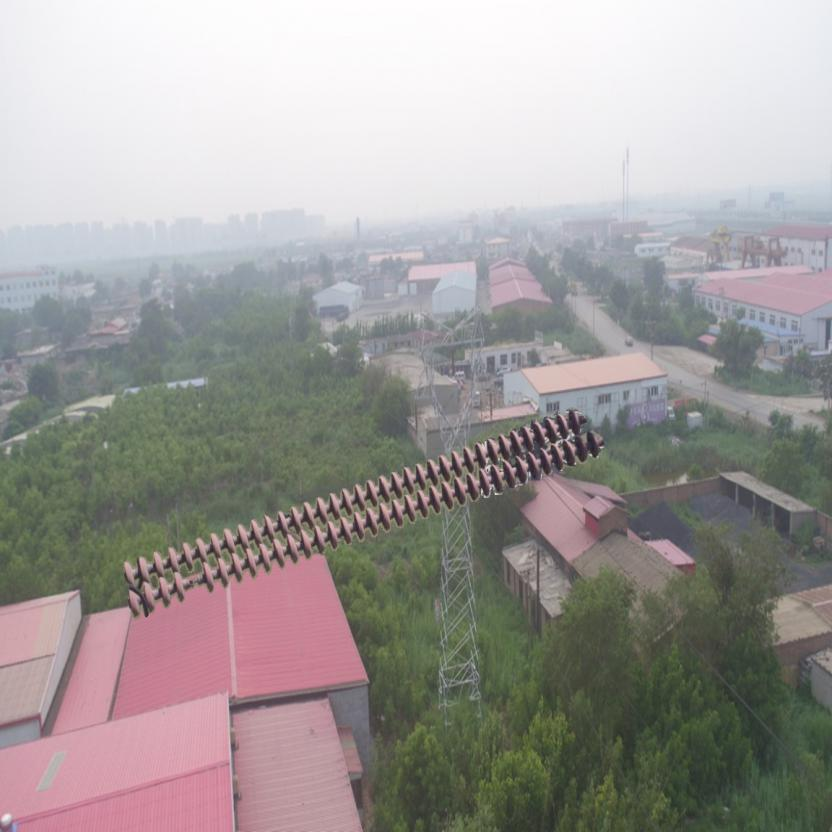defect: (164, 558, 216, 604)
